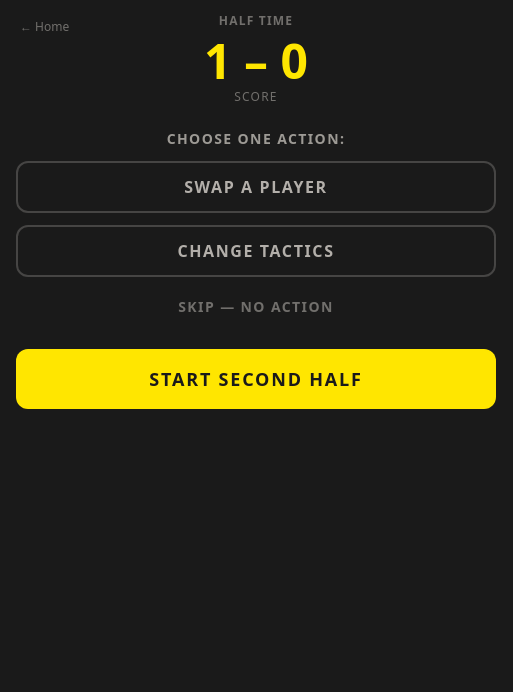
Scenario: HalftimeScreen › shows swap sub-UI when swap button is clicked
The image size is (513, 692).
Click the button with test id "action-swap-btn" at (256, 187), box [16,161,496,213]
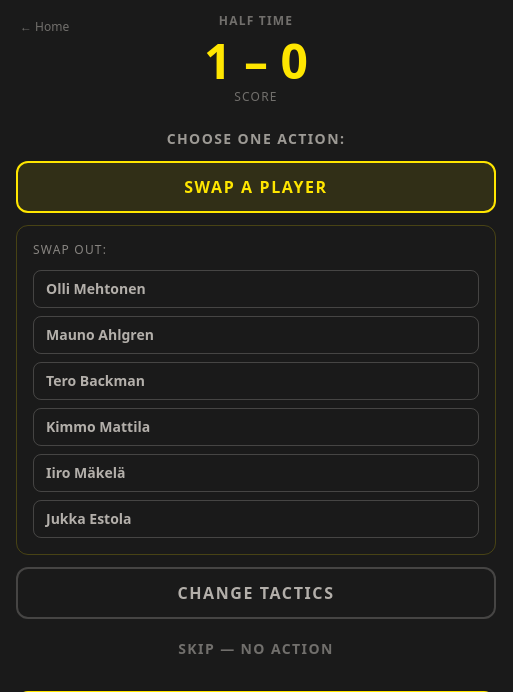
Now the element with test id "swap-ui" is shown, box [16,225,496,555]
